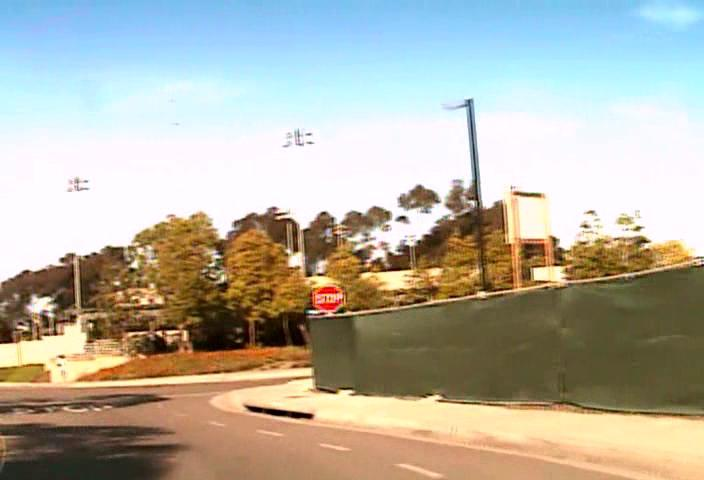stop: (313, 284, 343, 312)
